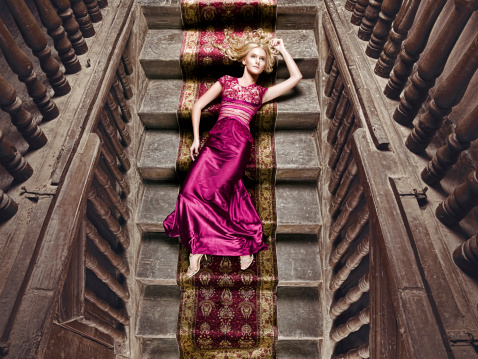deitado: (154, 5, 292, 359)
